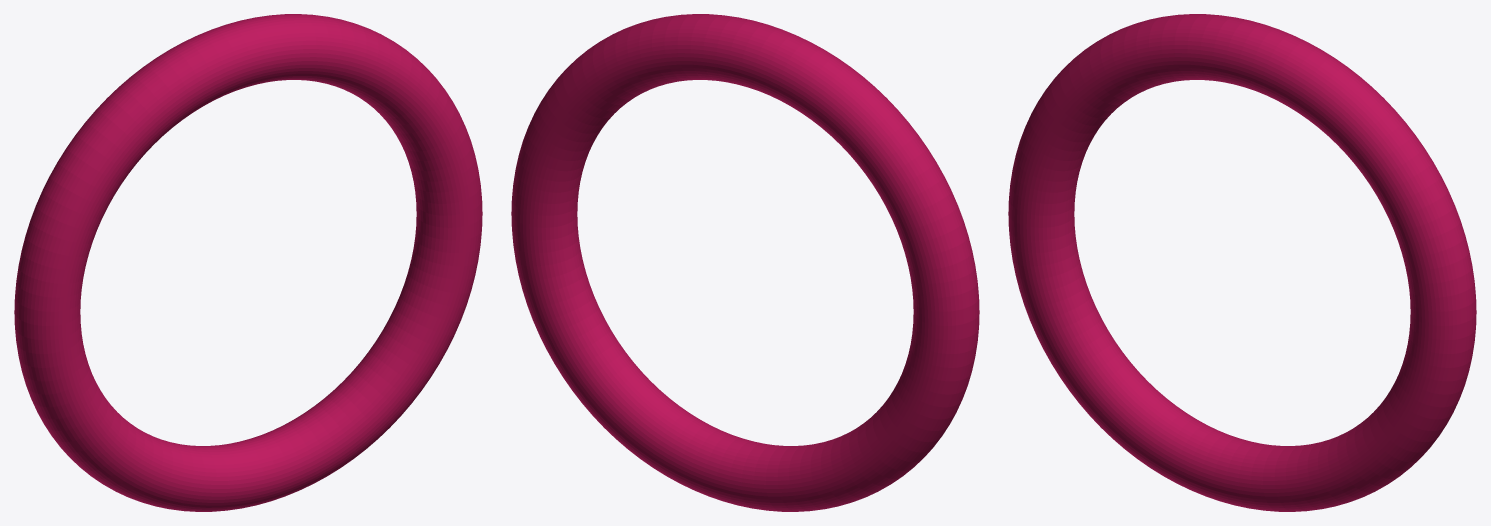
3 renders of one model, left to right at view 1: azimuth 30°, elevation 25°; view 2: azimuth 150°, elevation 25°; view 3: azimuth 330°, elevation 25°, orthographic.
Visible parts, largest first — view 1: world; view 2: world; view 3: world.
Boxes of the visible parts, x1,y1,x2,y2 form: world: [14, 14, 482, 511]; world: [511, 14, 979, 511]; world: [1008, 14, 1476, 511].
Bounding box in the file's own units: 28.93 × 28.93 × 3.59.
